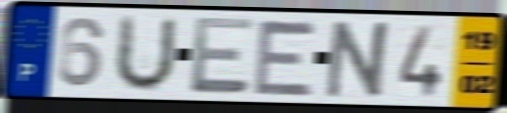4: (396, 22, 447, 100)
6: (56, 15, 109, 90)
E: (250, 17, 321, 99), (188, 14, 256, 97)
N: (322, 18, 397, 101)
U: (110, 13, 180, 95)
